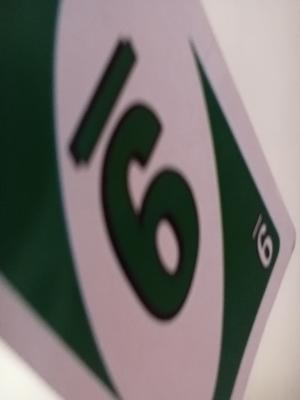green: (20, 29, 234, 353)
